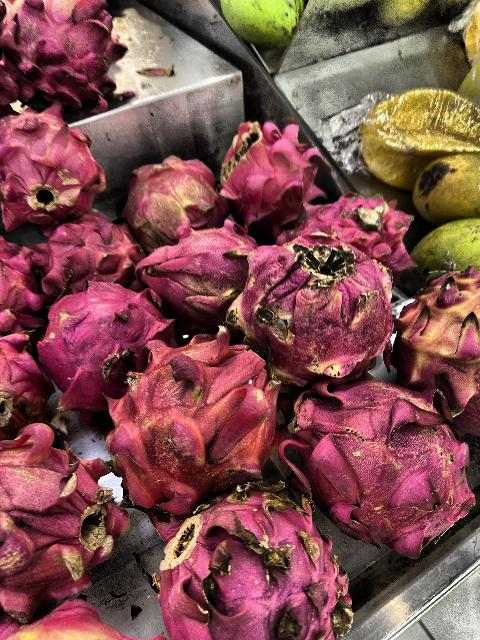buah-naga-belum-matang: (106, 333, 288, 519), (0, 422, 128, 602), (392, 262, 480, 434), (129, 223, 259, 329), (114, 152, 228, 238)
buah-naga-matang: (282, 367, 474, 547), (149, 486, 369, 640), (235, 230, 397, 380), (39, 282, 171, 398), (0, 0, 128, 116), (0, 103, 108, 221), (219, 124, 317, 222), (292, 196, 419, 268), (36, 220, 144, 284), (1, 316, 50, 424), (1, 234, 50, 336)
